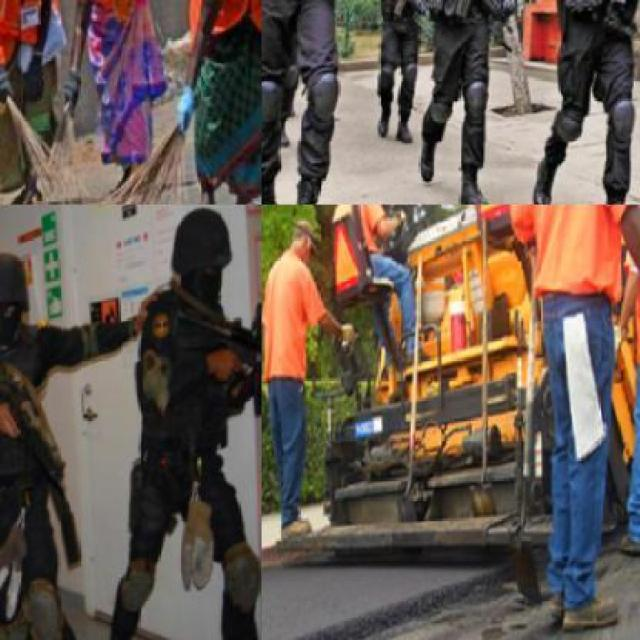Vest: (131, 297, 231, 512), (0, 329, 63, 551), (531, 205, 634, 317), (263, 251, 312, 394), (186, 0, 260, 68), (329, 205, 385, 288), (0, 0, 63, 68), (558, 0, 638, 40), (80, 0, 160, 31)
